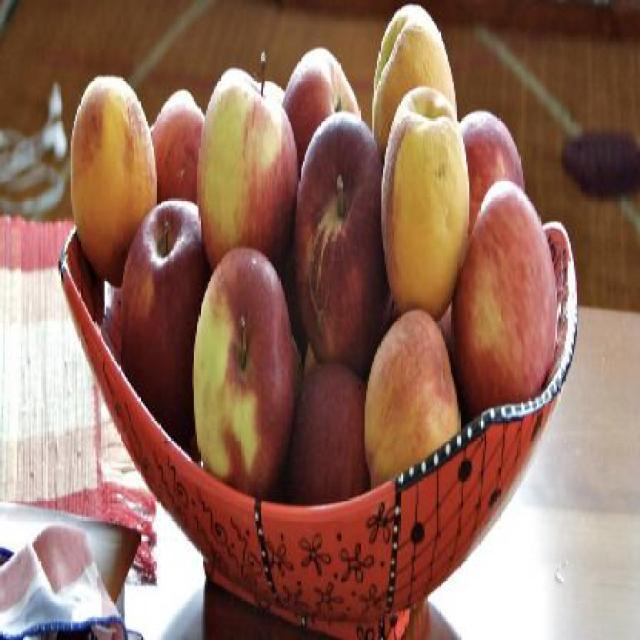Peach: (381, 90, 468, 318), (68, 72, 158, 280), (370, 1, 456, 164)
